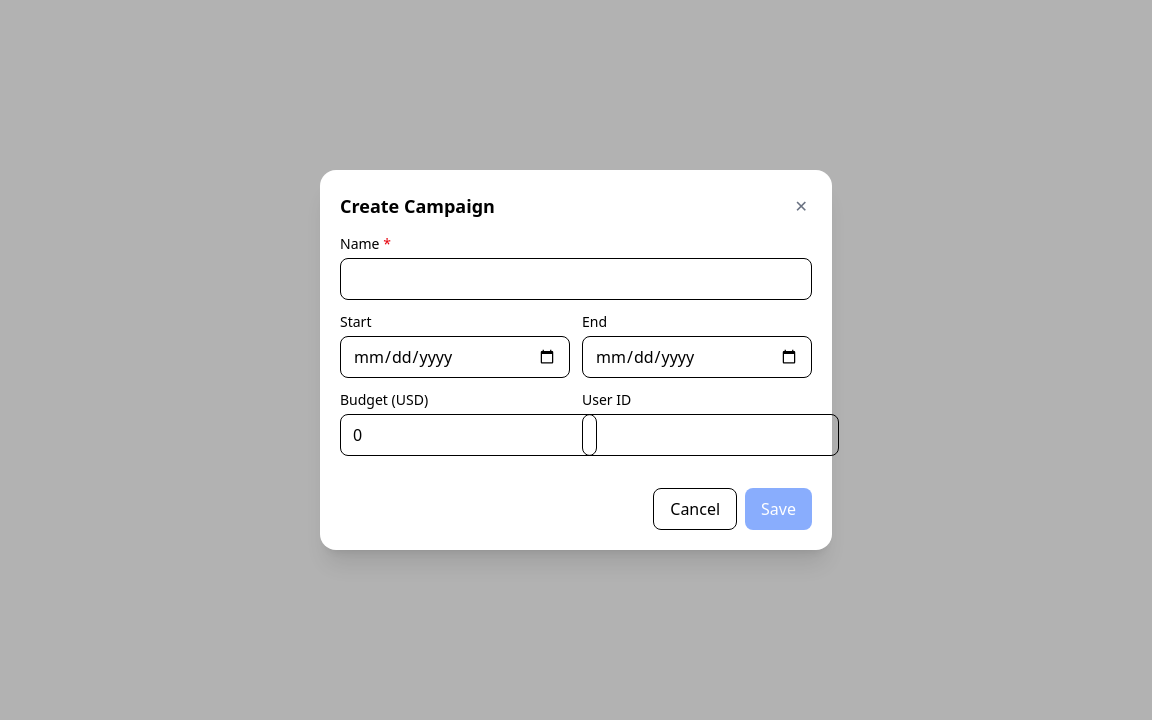
Test: <AddCampaignDialog /> › shows error when name is emptied after typing
Type "A" into the field labelled "Name *". click: (576, 279)
box: [340, 258, 812, 300]
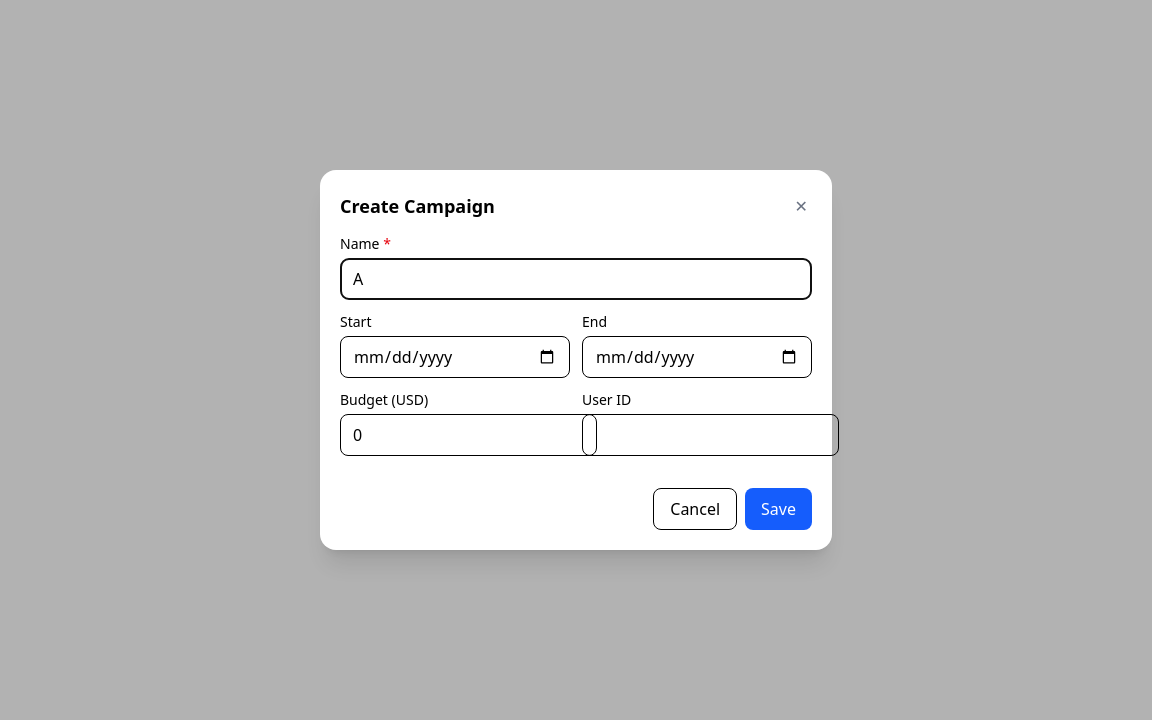
Clear the field labelled "Name *". click: (576, 279)
box: [340, 258, 812, 300]
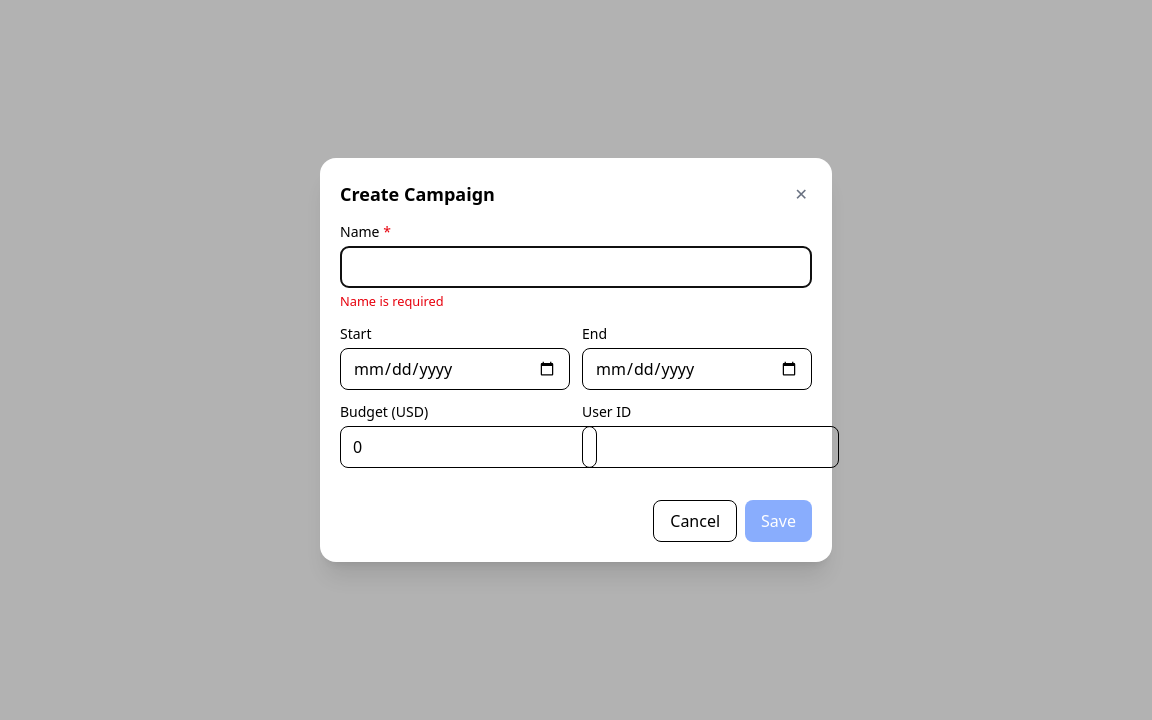
Now the text "Name is required" is shown, box [340, 292, 444, 310]
